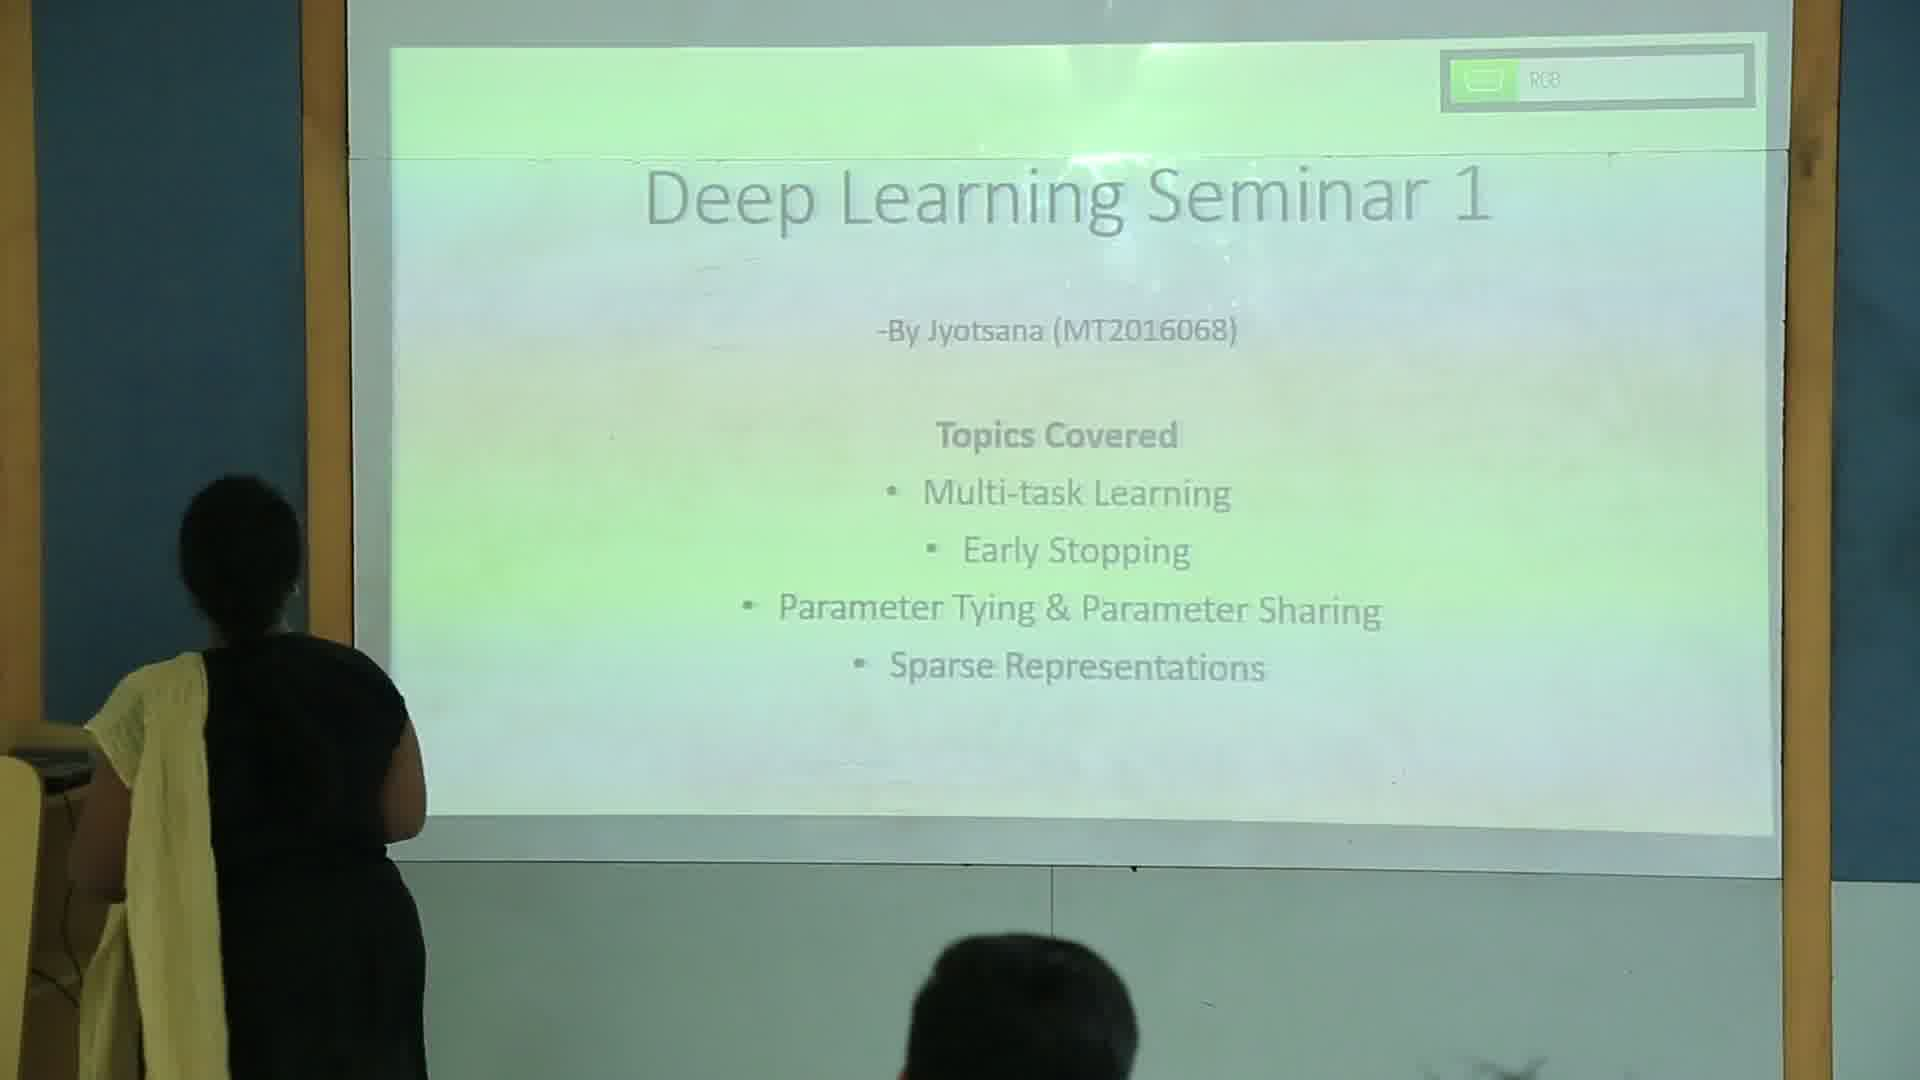slide: (388, 32, 1778, 837)
